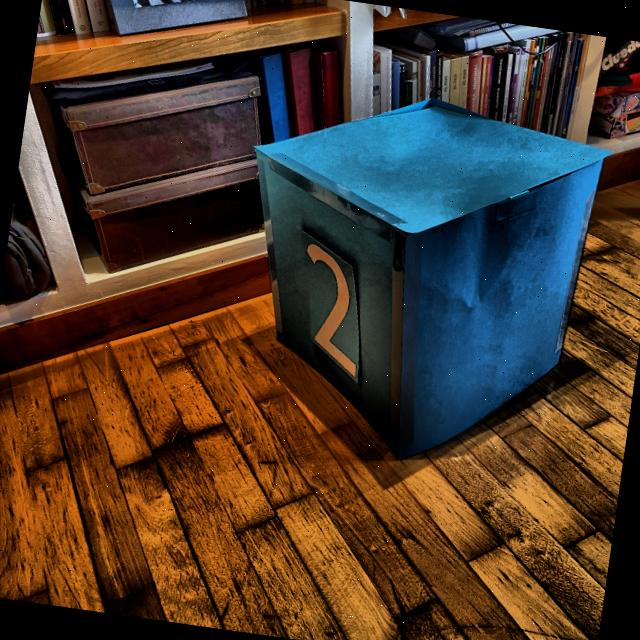blue box: (208, 55, 614, 486)
two: (278, 229, 384, 385)
